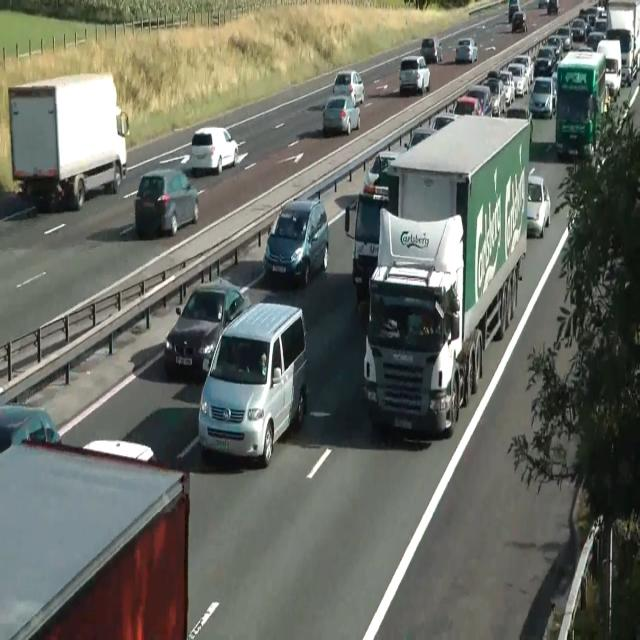bus: (0, 403, 156, 465), (163, 276, 250, 378), (134, 168, 199, 237), (0, 403, 62, 453), (190, 125, 238, 175), (82, 439, 156, 465), (526, 167, 550, 237), (363, 150, 399, 196), (322, 95, 360, 135), (398, 55, 430, 94), (332, 69, 364, 106), (482, 76, 506, 115), (467, 85, 492, 116), (507, 62, 529, 97), (404, 128, 437, 150), (452, 95, 482, 116), (498, 70, 515, 106), (455, 37, 478, 63), (420, 37, 442, 63), (430, 113, 456, 131), (556, 26, 572, 50), (511, 11, 527, 33), (538, 0, 560, 14), (508, 0, 520, 22)
car: (0, 402, 190, 638), (362, 207, 465, 437)
jeep: (198, 300, 308, 467), (263, 196, 329, 286), (344, 186, 389, 289), (528, 75, 555, 118)
minibus: (362, 112, 532, 438), (7, 71, 129, 212), (554, 49, 608, 159), (604, 0, 639, 84)
